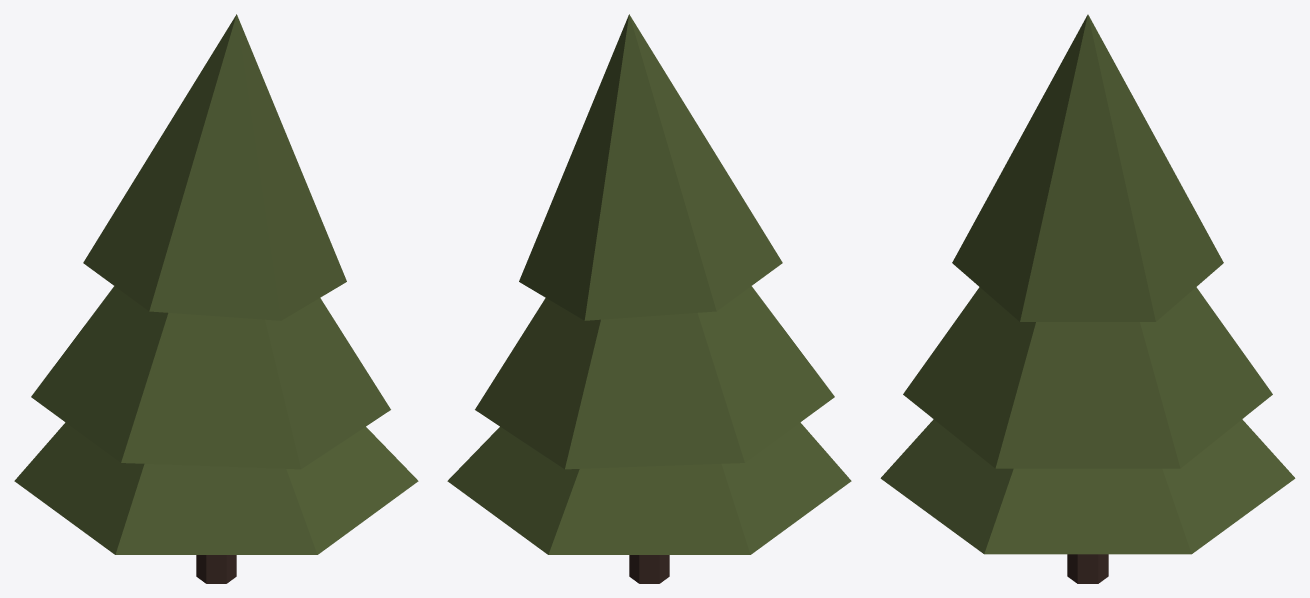
The model's file is Tree Type1 03.glb.
3 renders of one model, left to right at view 1: azimuth 30°, elevation 25°; view 2: azimuth 150°, elevation 25°; view 3: azimuth 270°, elevation 25°, orthographic. The views are drawn at different scales.
Parts seen in each view (by area): view 1: Tree_Type1_03_mesh; view 2: Tree_Type1_03_mesh; view 3: Tree_Type1_03_mesh.
Part boxes in pixels (left/top/right/bottom): Tree_Type1_03_mesh: left=14, top=14, right=418, bottom=583; Tree_Type1_03_mesh: left=447, top=14, right=851, bottom=583; Tree_Type1_03_mesh: left=880, top=14, right=1295, bottom=583.
Size of the model in its own units: 1.75 by 3.07 by 2.02.
Materials: 1 (1 with a texture image).
